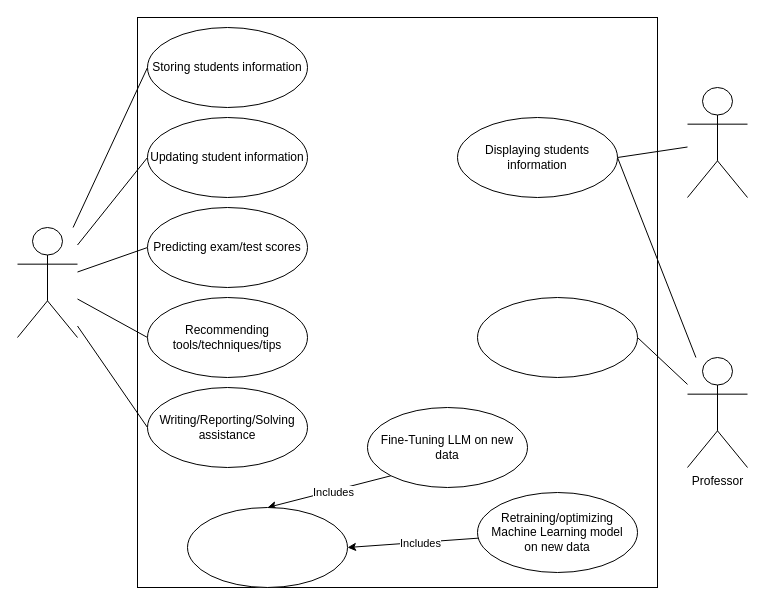
This 782x605 diagram has some shape labels left out. Here are the shapes that lost their labels. From the top down, the centre of each, then its label:
point 717,142: Academic Advisor
point 47,282: Student
point 557,337: Displaying class statistics/reviews
point 267,547: Updating training data labels
